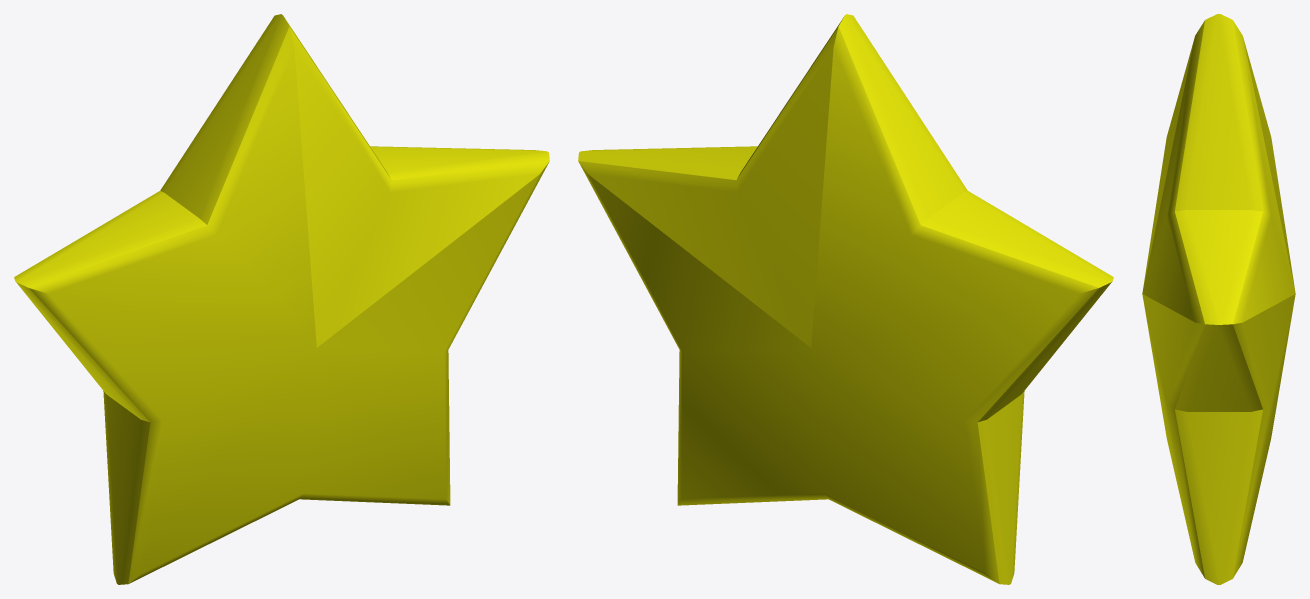
The model's file is daze.fbx.
3 renders of one model, left to right at view 1: azimuth 30°, elevation 25°; view 2: azimuth 150°, elevation 25°; view 3: azimuth 270°, elevation 25°, orthographic. The views are drawn at different scales.
Visible parts, largest first — view 1: daze; view 2: daze; view 3: daze.
Part boxes in pixels (<box>): daze: <box>14,14,549,584</box>; daze: <box>578,14,1113,584</box>; daze: <box>1142,14,1295,584</box>.
Size of the model in its own units: 0.4252 by 0.4044 by 0.1133.
